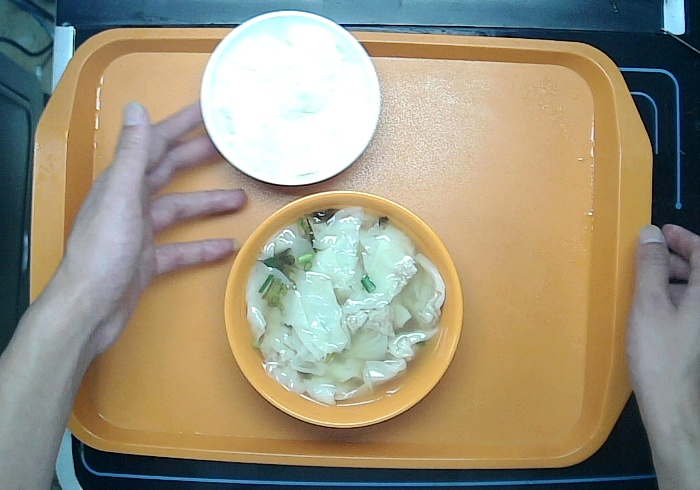NLDX-Fan_Wan: (197, 6, 382, 188)
NLDX-Hun_Tun_Wan: (222, 187, 465, 429)
